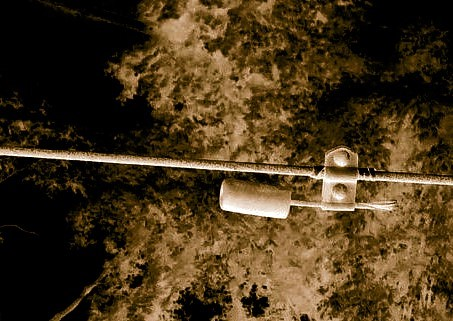Damage of shockproof hammer: (202, 132, 408, 230)
